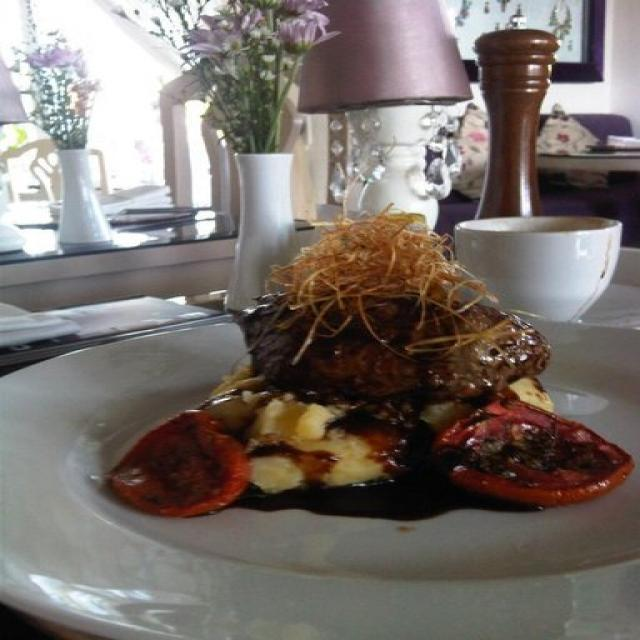Steak: (250, 255, 534, 396)
